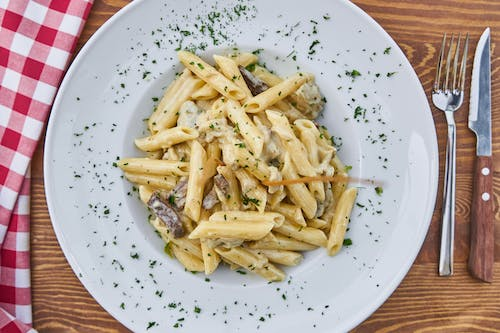knife: (465, 23, 497, 283)
